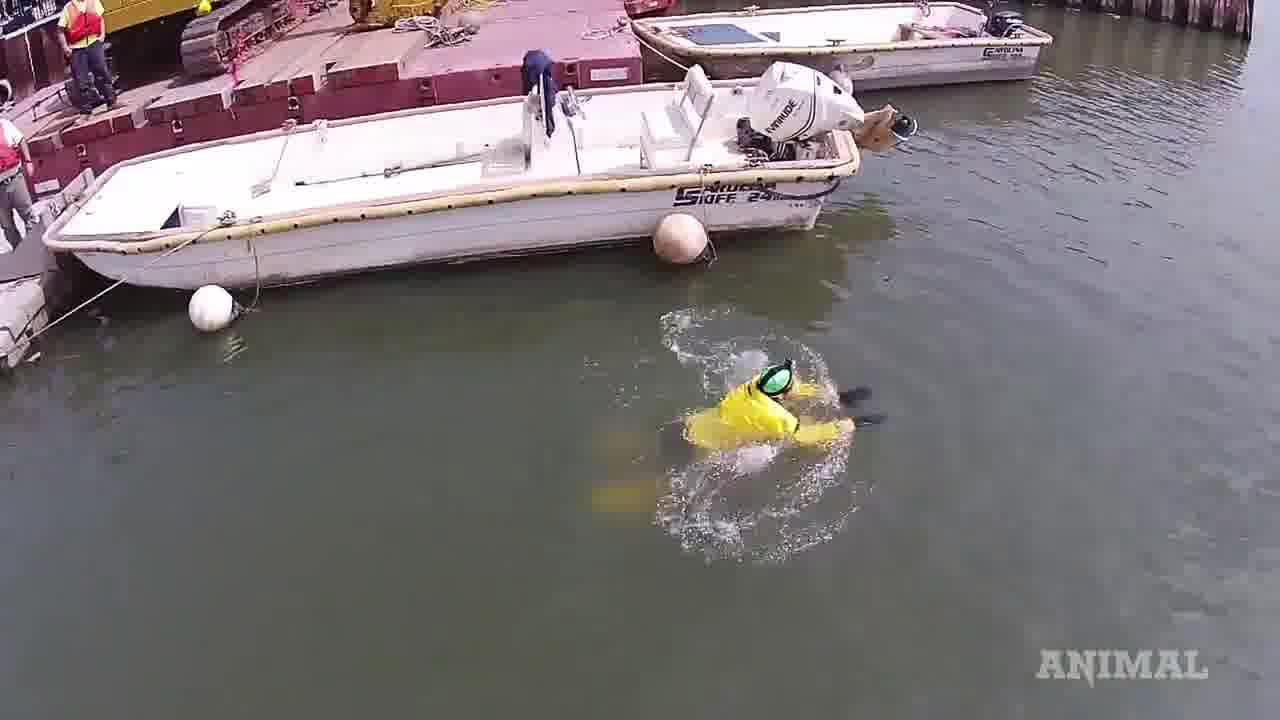human: (680, 347, 899, 454)
